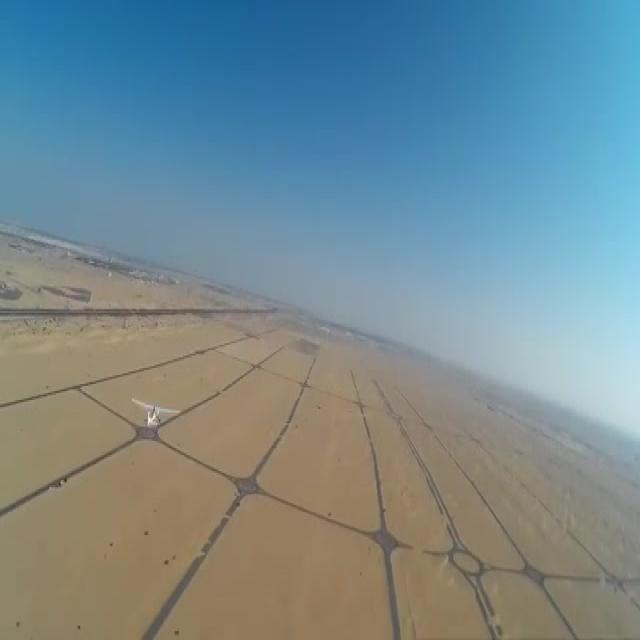iha: (132, 398, 180, 426)
